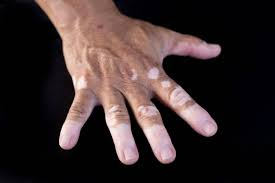vitiligo: (41, 43, 247, 163)
